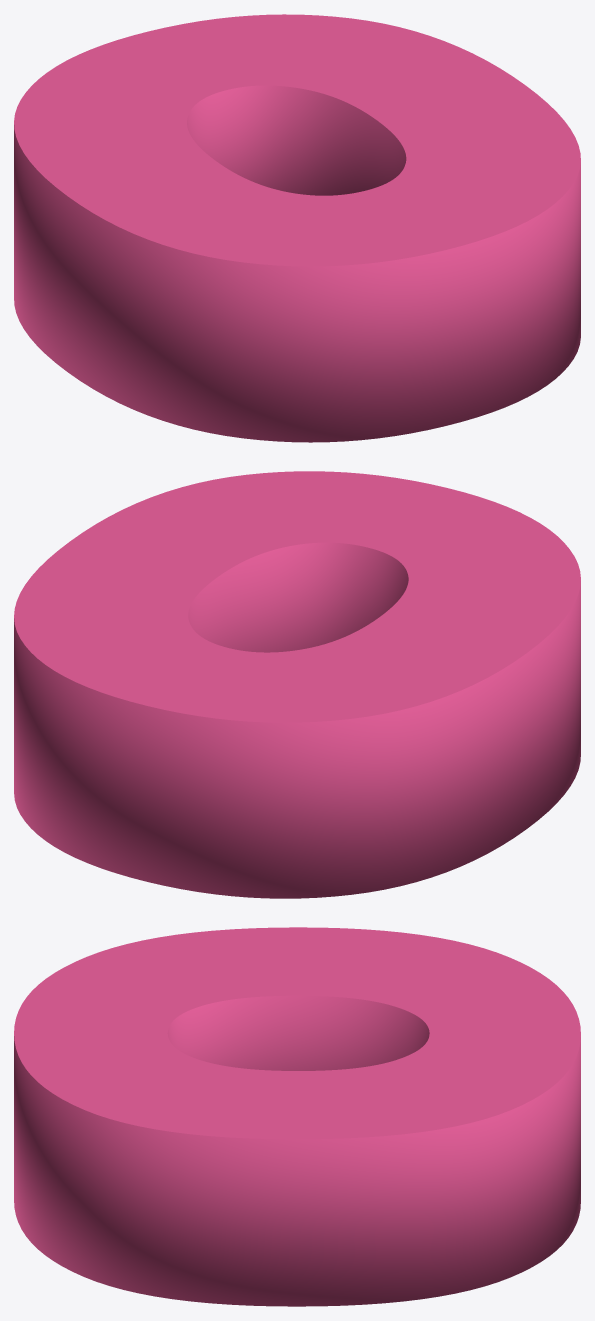
3 renders of one model, top to bottom at view 1: azimuth 30°, elevation 25°; view 2: azimuth 150°, elevation 25°; view 3: azimuth 270°, elevation 25°, orthographic. The views are drawn at different scales.
Visible parts, largest first — view 1: o; view 2: o; view 3: o.
Part boxes in pixels (x1,y1,x2,y2): o: (14, 14, 580, 442); o: (14, 471, 580, 898); o: (14, 927, 580, 1306).
Bounding box in the file's own units: 0.2895 × 0.1065 × 0.3273.
